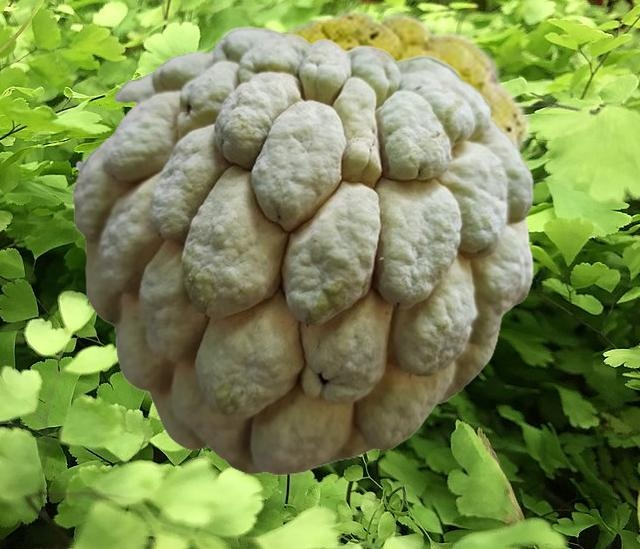atis: (71, 26, 533, 474), (275, 8, 532, 220)
